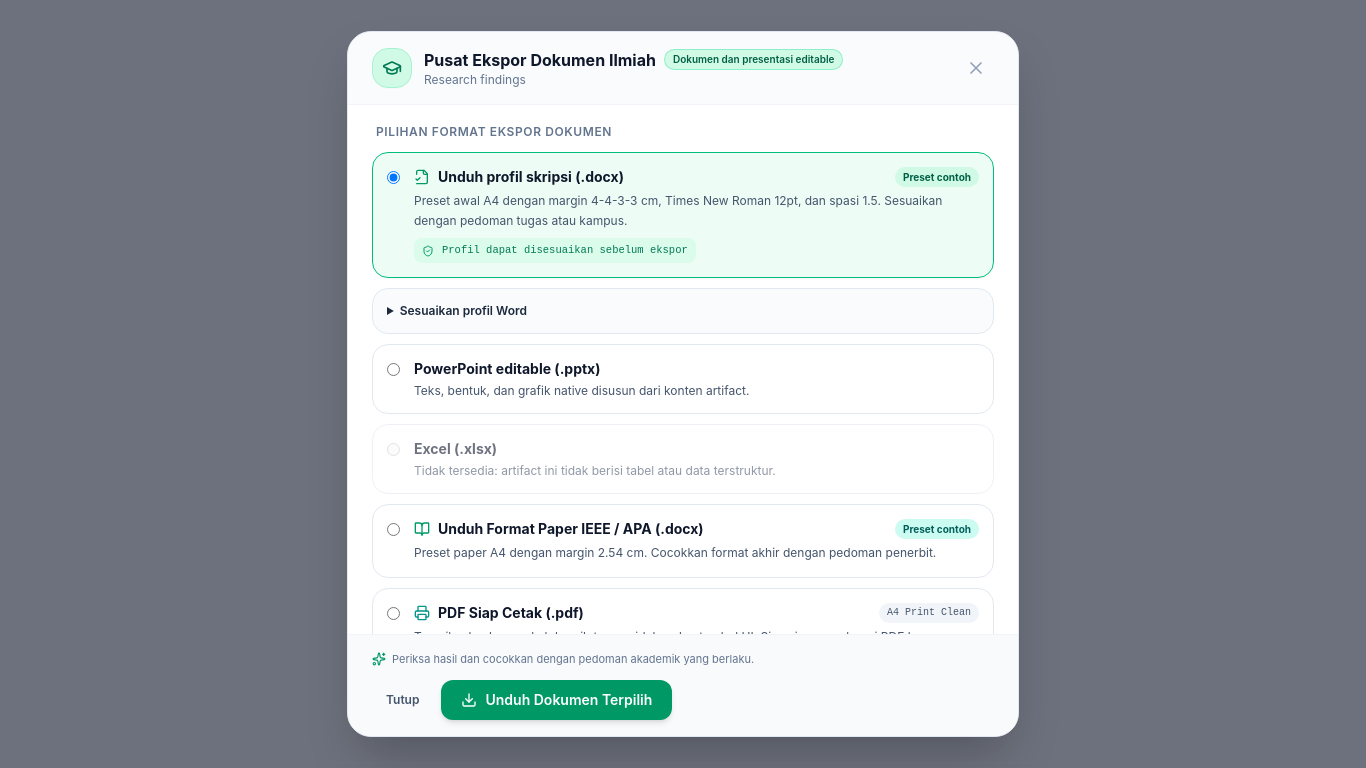
Test case: academic export modal › loads the editable PowerPoint outline on demand and previews its slide layouts
(page scrolled)
What coordinates should you click on to do the following:
click the radio button labelled "PowerPoint editable"
I would click on:
 (394, 370)
Its box is [387, 363, 400, 376].
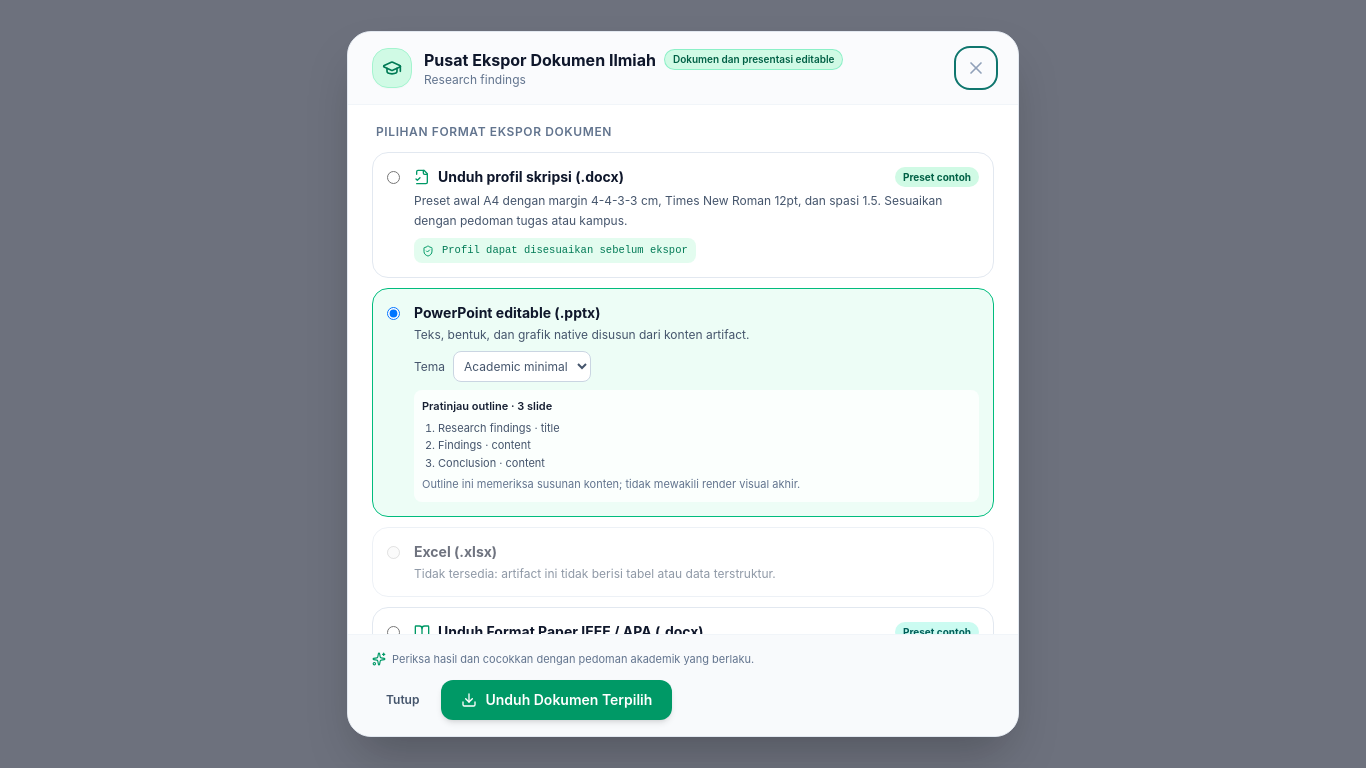
Result: the text "Pratinjau outline · 3 slide" is shown at [422, 399, 552, 413]
Result: the list item "Findings · content" is shown at [438, 438, 531, 452]
Result: the list item "Conclusion · content" is shown at [438, 456, 545, 470]
